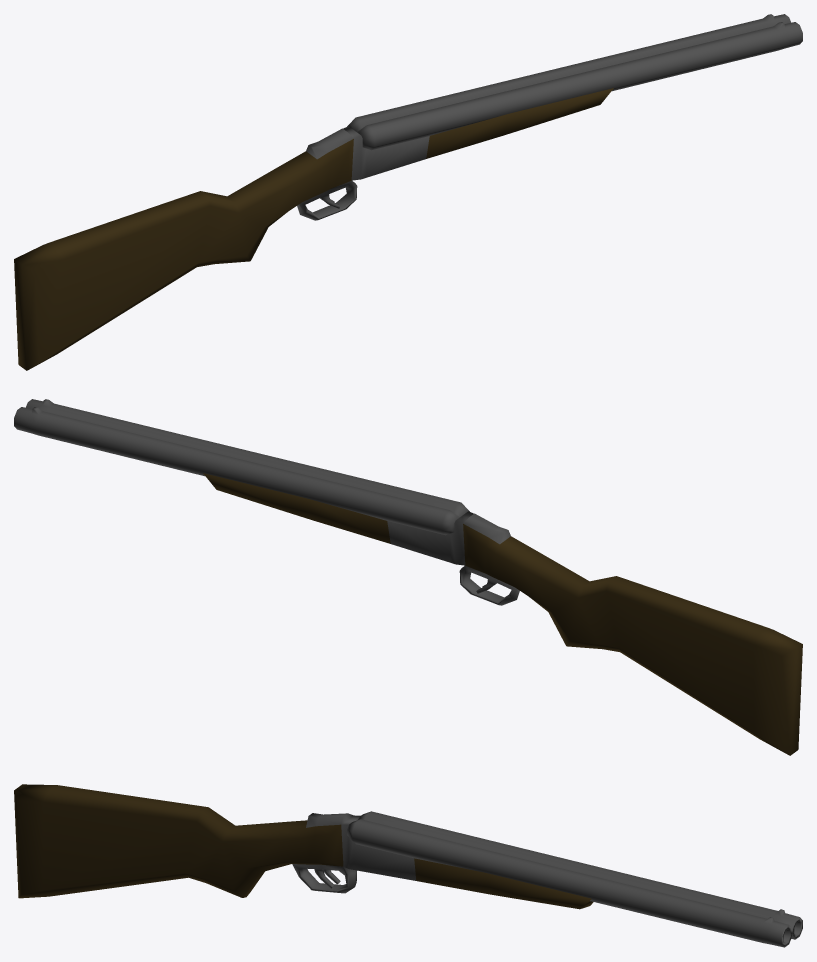
Rendered from Haulikko (1).fbx.
3 renders of one model, top to bottom at view 1: azimuth 30°, elevation 25°; view 2: azimuth 150°, elevation 25°; view 3: azimuth 330°, elevation 25°, orthographic.
Parts seen in each view (by area): view 1: Haulikko; view 2: Haulikko; view 3: Haulikko.
Boxes of the visible parts, <box> form: Haulikko: <box>14,14,802,370</box>; Haulikko: <box>14,399,802,755</box>; Haulikko: <box>14,784,802,947</box>.
Bounding box in the file's own units: 3.88 × 0.7904 × 0.1954.
